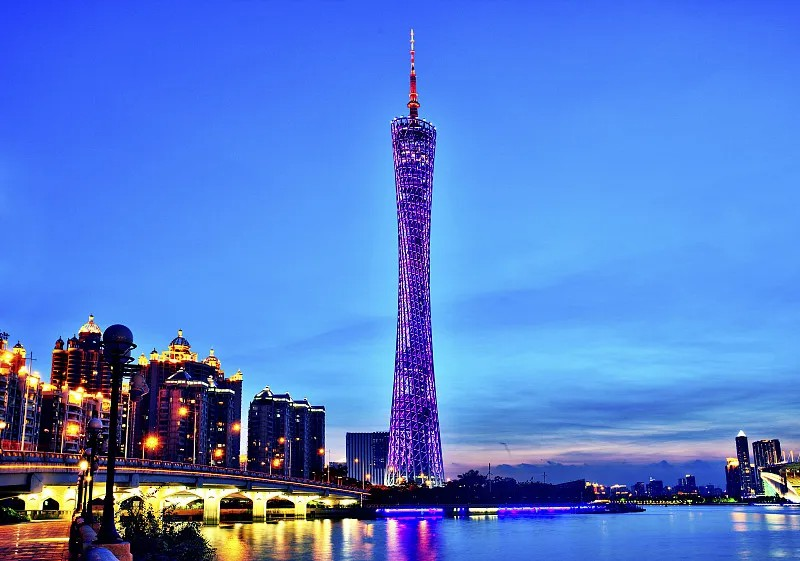Canton: (386, 26, 447, 490)
